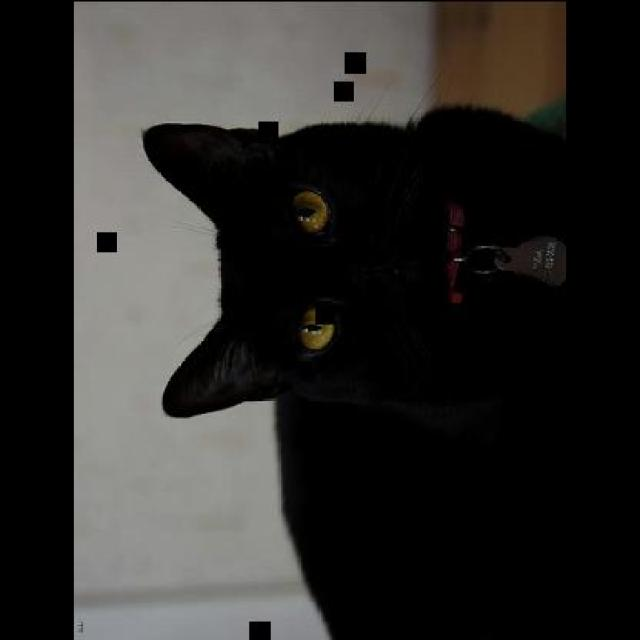unauthorized: (140, 100, 572, 422)
